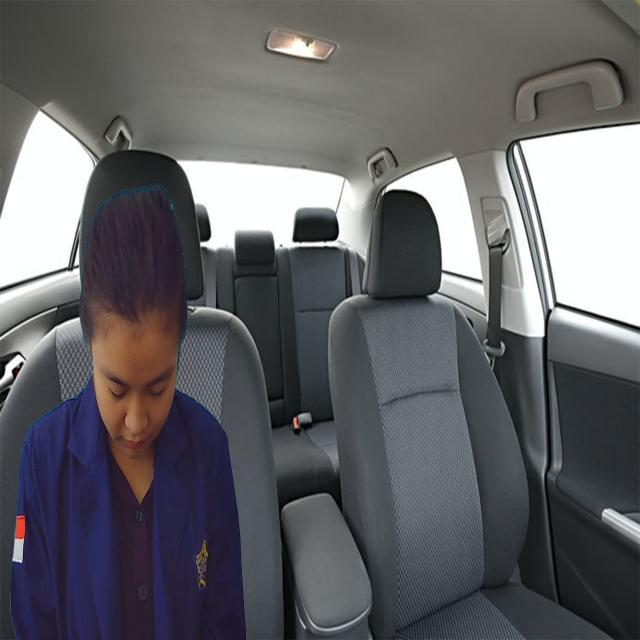no-seatbelt: (93, 303, 175, 463)
